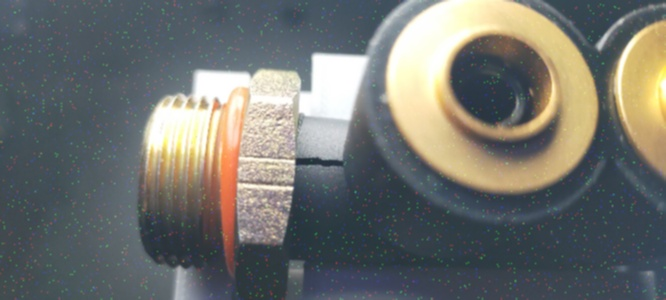craze: (294, 149, 347, 175)
